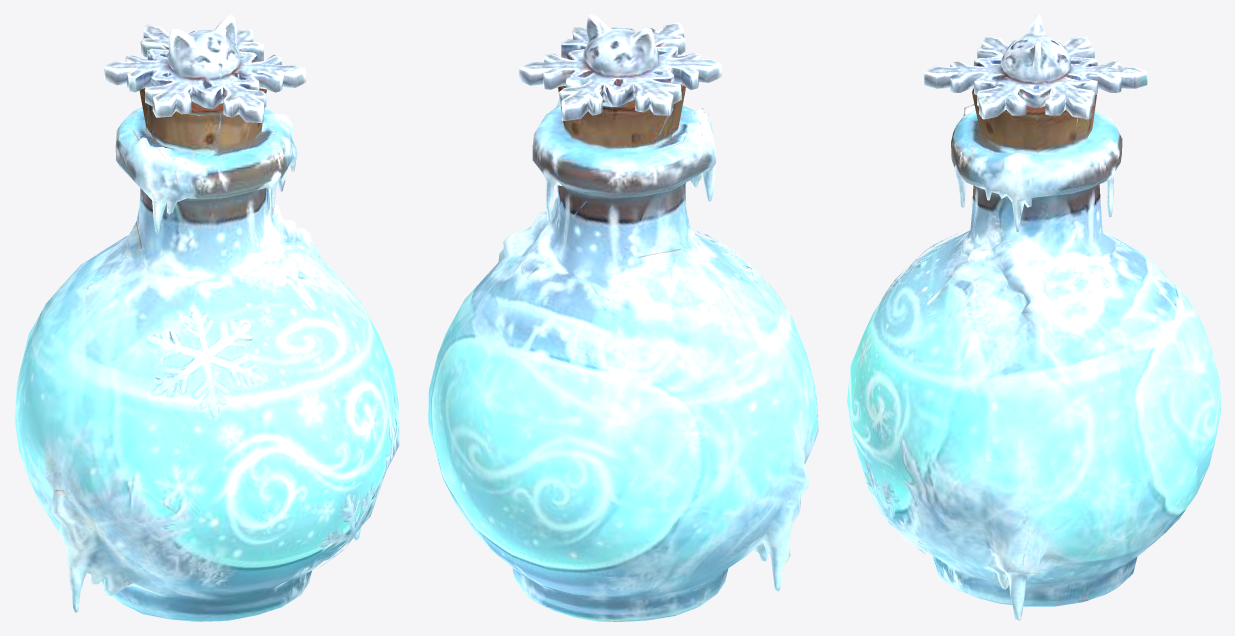
Rendered from pickup_ice.glb.
The picture shows the model from 3 angles, left to right: view 1: azimuth 30°, elevation 25°; view 2: azimuth 150°, elevation 25°; view 3: azimuth 270°, elevation 25°; orthographic projection. The views are drawn at different scales.
Parts seen in each view (by area): view 1: pickup_ice; view 2: pickup_ice; view 3: pickup_ice.
Part boxes in pixels (bbox=[...]): pickup_ice: bbox=[14, 14, 399, 621]; pickup_ice: bbox=[428, 14, 818, 621]; pickup_ice: bbox=[847, 14, 1220, 621].
Bounding box in the file's own units: 0.6432 × 1 × 0.6299.
Materials: 1 (1 with a texture image).
